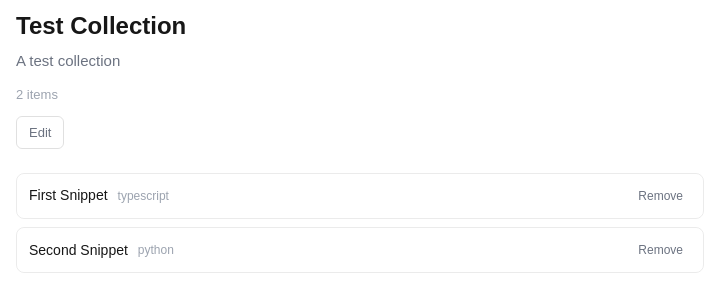
Test case: CollectionDetailPage › removes an item
Expected: the text "First Snippet" is shown, [29,185,108,206]
Click the button "Remove" in the row of "typescript" at (661, 196), box [630,184,691,208]
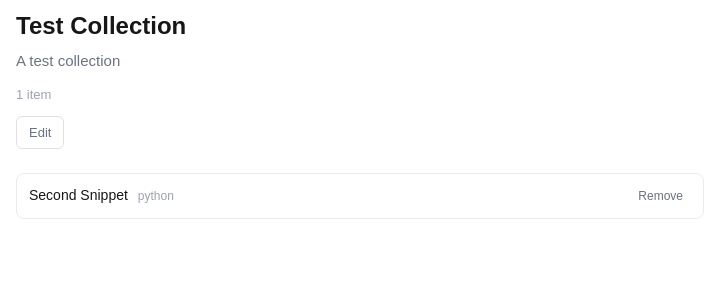
Now the link "First Snippet" is gone
